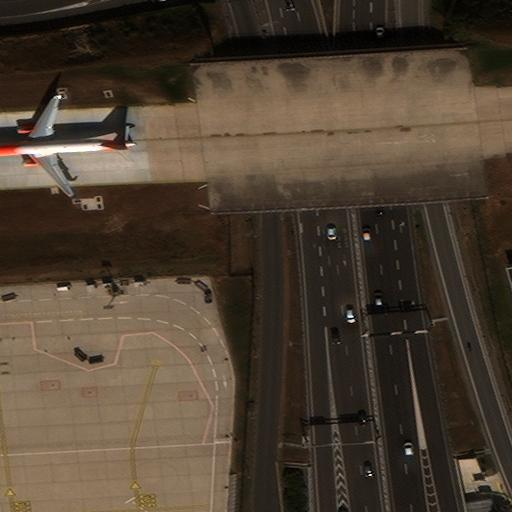Medium Civil Transport: (0, 96, 136, 197)
